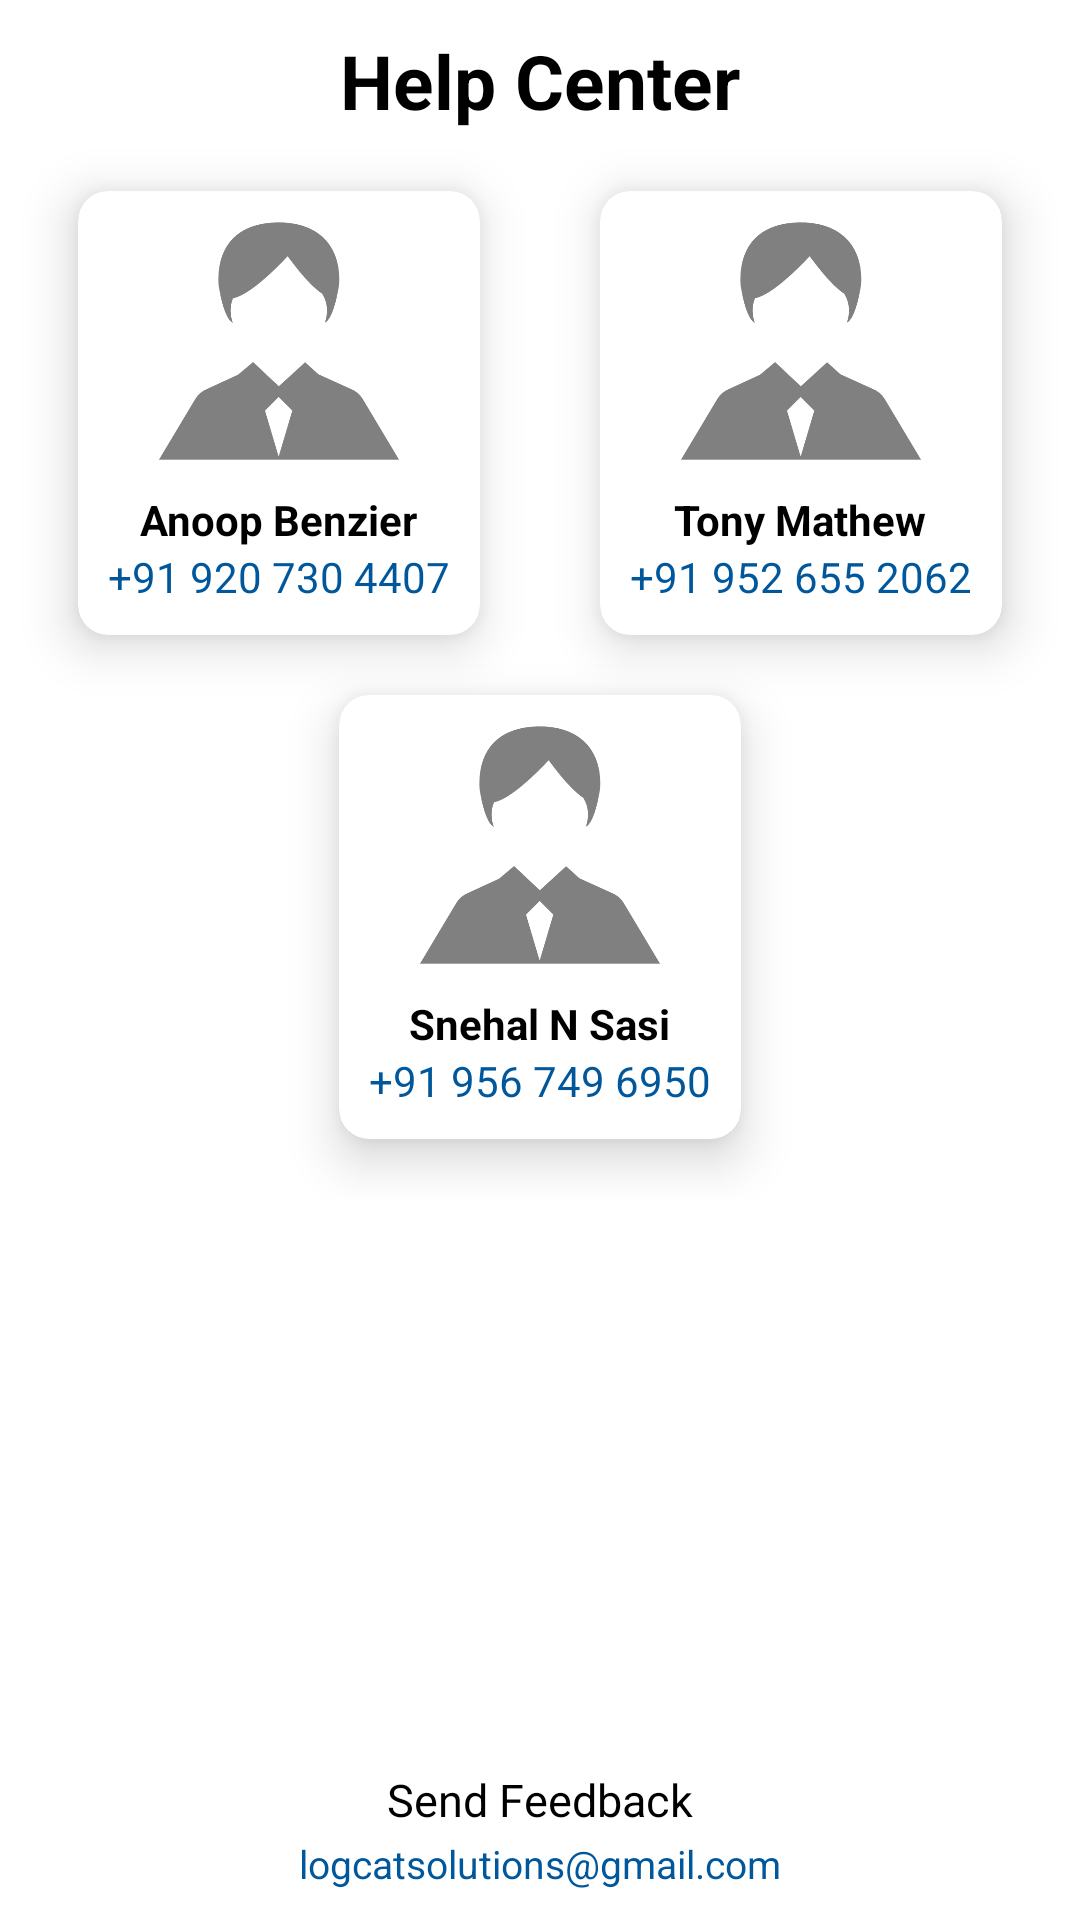

Where icons sit on this 1080px x 1920px app screen, as detection(x1, y1, x2, y2):
person: detection(159, 222, 399, 460), detection(681, 222, 921, 460), detection(420, 726, 660, 964)
